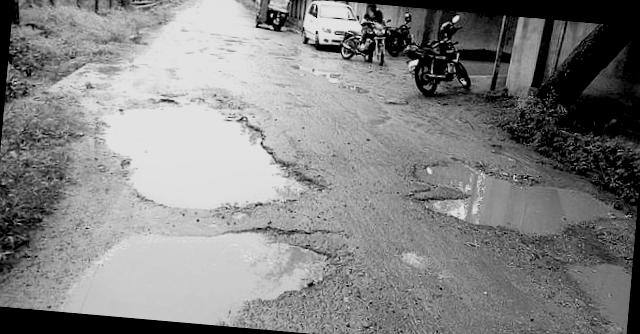Pothole: (70, 78, 356, 230), (33, 212, 352, 334), (386, 147, 640, 257), (549, 249, 633, 334)
